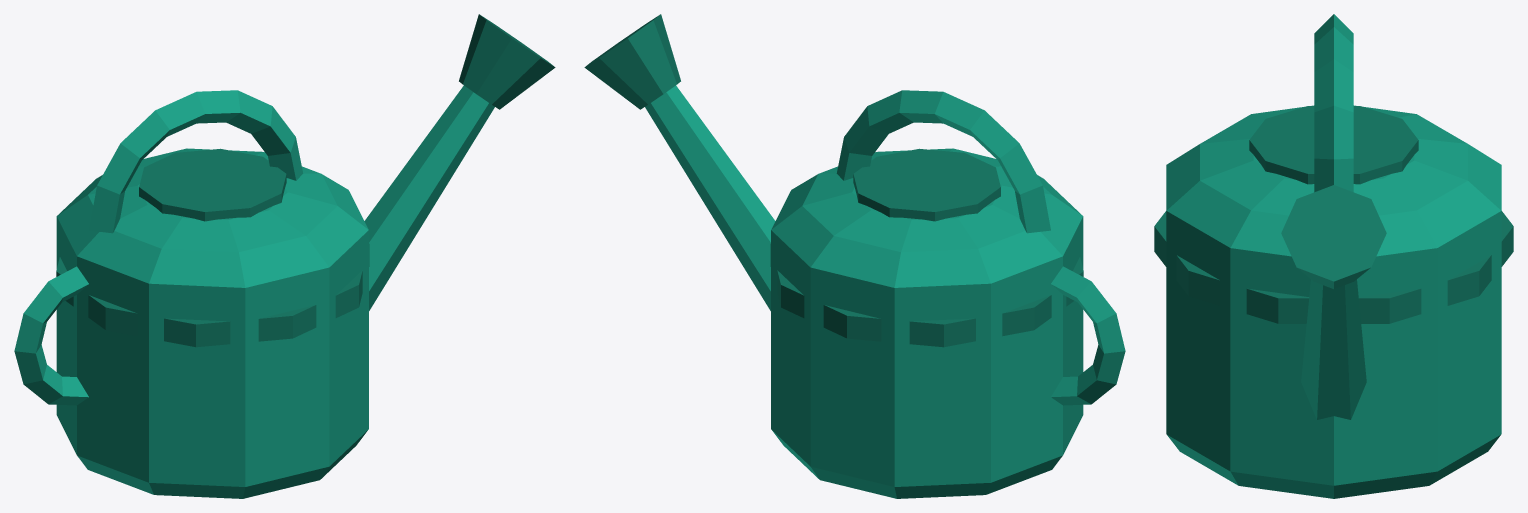
Rendered from wateringCan.glb.
The picture shows the model from 3 angles, left to right: view 1: azimuth 30°, elevation 25°; view 2: azimuth 150°, elevation 25°; view 3: azimuth 270°, elevation 25°; orthographic projection. The views are drawn at different scales.
Parts seen in each view (by area): view 1: wateringCan-m; view 2: wateringCan-m; view 3: wateringCan-m.
Part boxes in pixels (box(x1,y1,x2,y2)): wateringCan-m: box(14, 14, 555, 498); wateringCan-m: box(584, 14, 1125, 498); wateringCan-m: box(1154, 14, 1513, 498).
Size of the model in its own units: 0.9814 by 0.6194 by 0.51.
